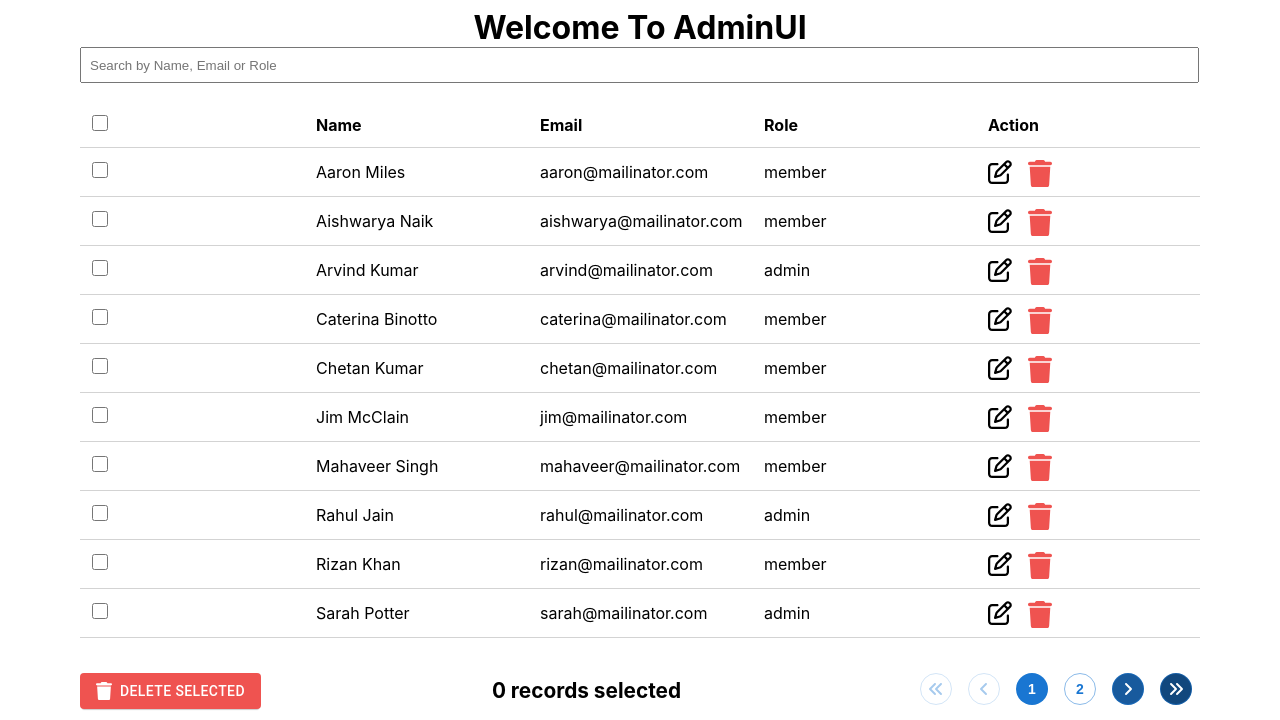
Test: Admin-UI - Admin Table Test › 7. should show input box to edit a user record when clicked on the edit button
Click the 3rd button named "edit user button" at (1000, 270), box x1=988 y1=258 x2=1012 y2=282
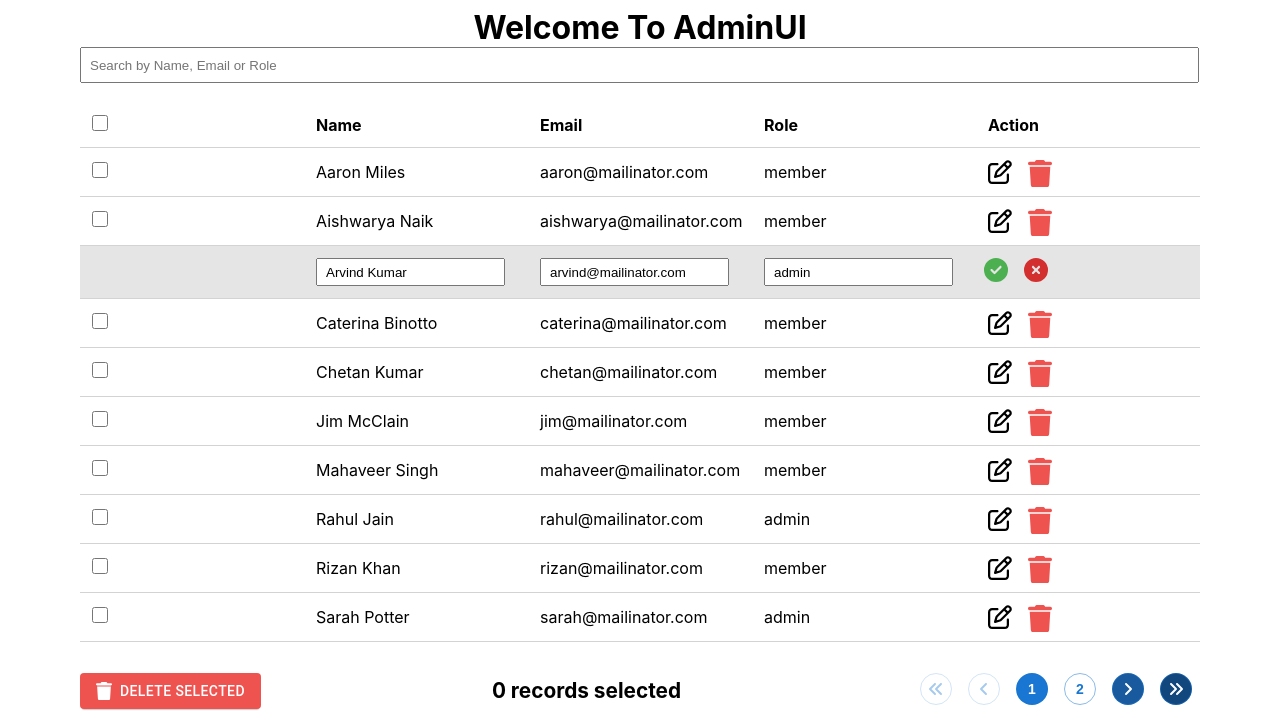
expect the field with placeholder "Enter name" holds "Arvind Kumar": met, box x1=316 y1=258 x2=505 y2=286
expect the field with placeholder "Enter name" does not hold "Aishwarya Naik": met, box x1=316 y1=258 x2=505 y2=286
